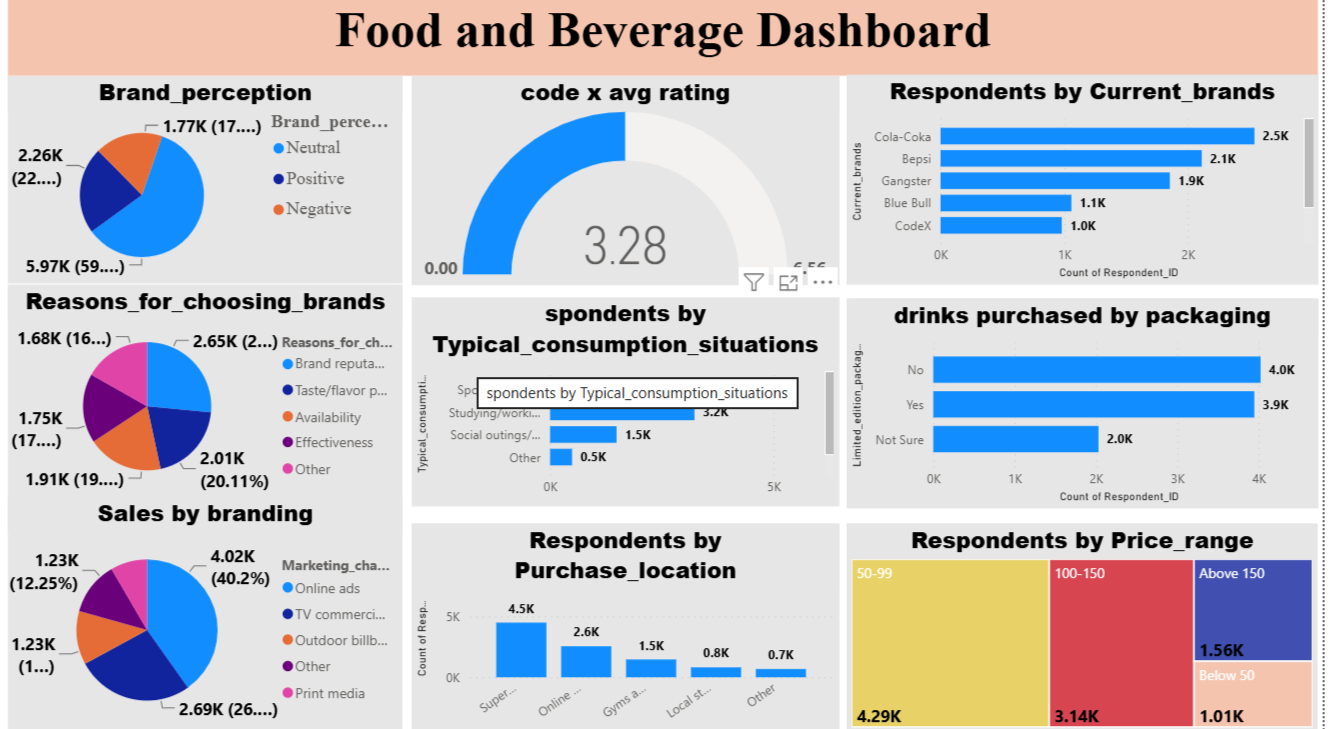

Layout of this report page (visuals, bound fields, positions):
{"tool":"powerbi","page":{"name":"Page 1","canvas":[1280,720],"ordinal":1},"visuals":[{"type":"textbox","box":[10.8,9.4,1264.1,76.7],"z":0},{"type":"pieChart","title":"Brand_perception","fields":{"Y":["CountNonNull(dim_repondents.Respondent_ID)"],"Category":["fact_survey_responses.Brand_perception"]},"box":[10.9,86.8,381.1,200.2],"z":1000},{"type":"pieChart","title":"Reasons_for_choosing_brands","fields":{"Y":["CountNonNull(dim_repondents.Respondent_ID)"],"Category":["fact_survey_responses.Reasons_for_choosing_brands"]},"box":[10.9,288.2,381.1,205],"z":2000},{"type":"pieChart","title":"Sales by branding","fields":{"Y":["CountNonNull(dim_repondents.Respondent_ID)"],"Category":["fact_survey_responses.Marketing_channels"]},"box":[10.9,493.3,381.1,226.7],"z":3000},{"type":"gauge","title":"code x avg rating","fields":{"Y":["Avg(fact_survey_responses.Taste_experience)"]},"box":[400.4,86.8,412.5,201.4],"z":4000},{"type":"barChart","title":"spondents by Typical_consumption_situations","fields":{"Category":["fact_survey_responses.Typical_consumption_situations"],"Y":["CountNonNull(dim_repondents.Respondent_ID)"]},"box":[400.4,300.3,412.5,201.4],"z":5000},{"type":"clusteredColumnChart","title":"Respondents by Purchase_location","fields":{"Category":["fact_survey_responses.Purchase_location"],"Y":["CountNonNull(dim_repondents.Respondent_ID)"]},"box":[400.4,518.6,412.5,201.4],"z":6000},{"type":"clusteredBarChart","title":"Respondents by Current_brands","fields":{"Y":["CountNonNull(dim_repondents.Respondent_ID)"],"Category":["fact_survey_responses.Current_brands"]},"box":[820,86,455,202],"z":7000},{"type":"clusteredBarChart","title":"drinks purchased by packaging","fields":{"Category":["fact_survey_responses.Limited_edition_packaging"],"Y":["CountNonNull(dim_repondents.Respondent_ID)"]},"box":[820,301,455,202],"z":8000},{"type":"treemap","title":"Respondents by Price_range","fields":{"Group":["fact_survey_responses.Price_range"],"Values":["CountNonNull(dim_repondents.Respondent_ID)"]},"box":[820.1,518.6,454.7,201.4],"z":9000}]}

Visuals, with their boxes in screenshot pixels (x1, y1, x2, y2), scaled from the page's 1280x720 canvas onto the 1330x729 screenshot:
textbox: x1=11, y1=10, x2=1325, y2=87
"Brand_perception" pieChart: x1=11, y1=88, x2=407, y2=291
"Reasons_for_choosing_brands" pieChart: x1=11, y1=292, x2=407, y2=499
"Sales by branding" pieChart: x1=11, y1=499, x2=407, y2=728
"code x avg rating" gauge: x1=416, y1=88, x2=845, y2=292
"spondents by Typical_consumption_situations" barChart: x1=416, y1=304, x2=845, y2=508
"Respondents by Purchase_location" clusteredColumnChart: x1=416, y1=525, x2=845, y2=728
"Respondents by Current_brands" clusteredBarChart: x1=852, y1=87, x2=1325, y2=292
"drinks purchased by packaging" clusteredBarChart: x1=852, y1=305, x2=1325, y2=509
"Respondents by Price_range" treemap: x1=852, y1=525, x2=1325, y2=728
